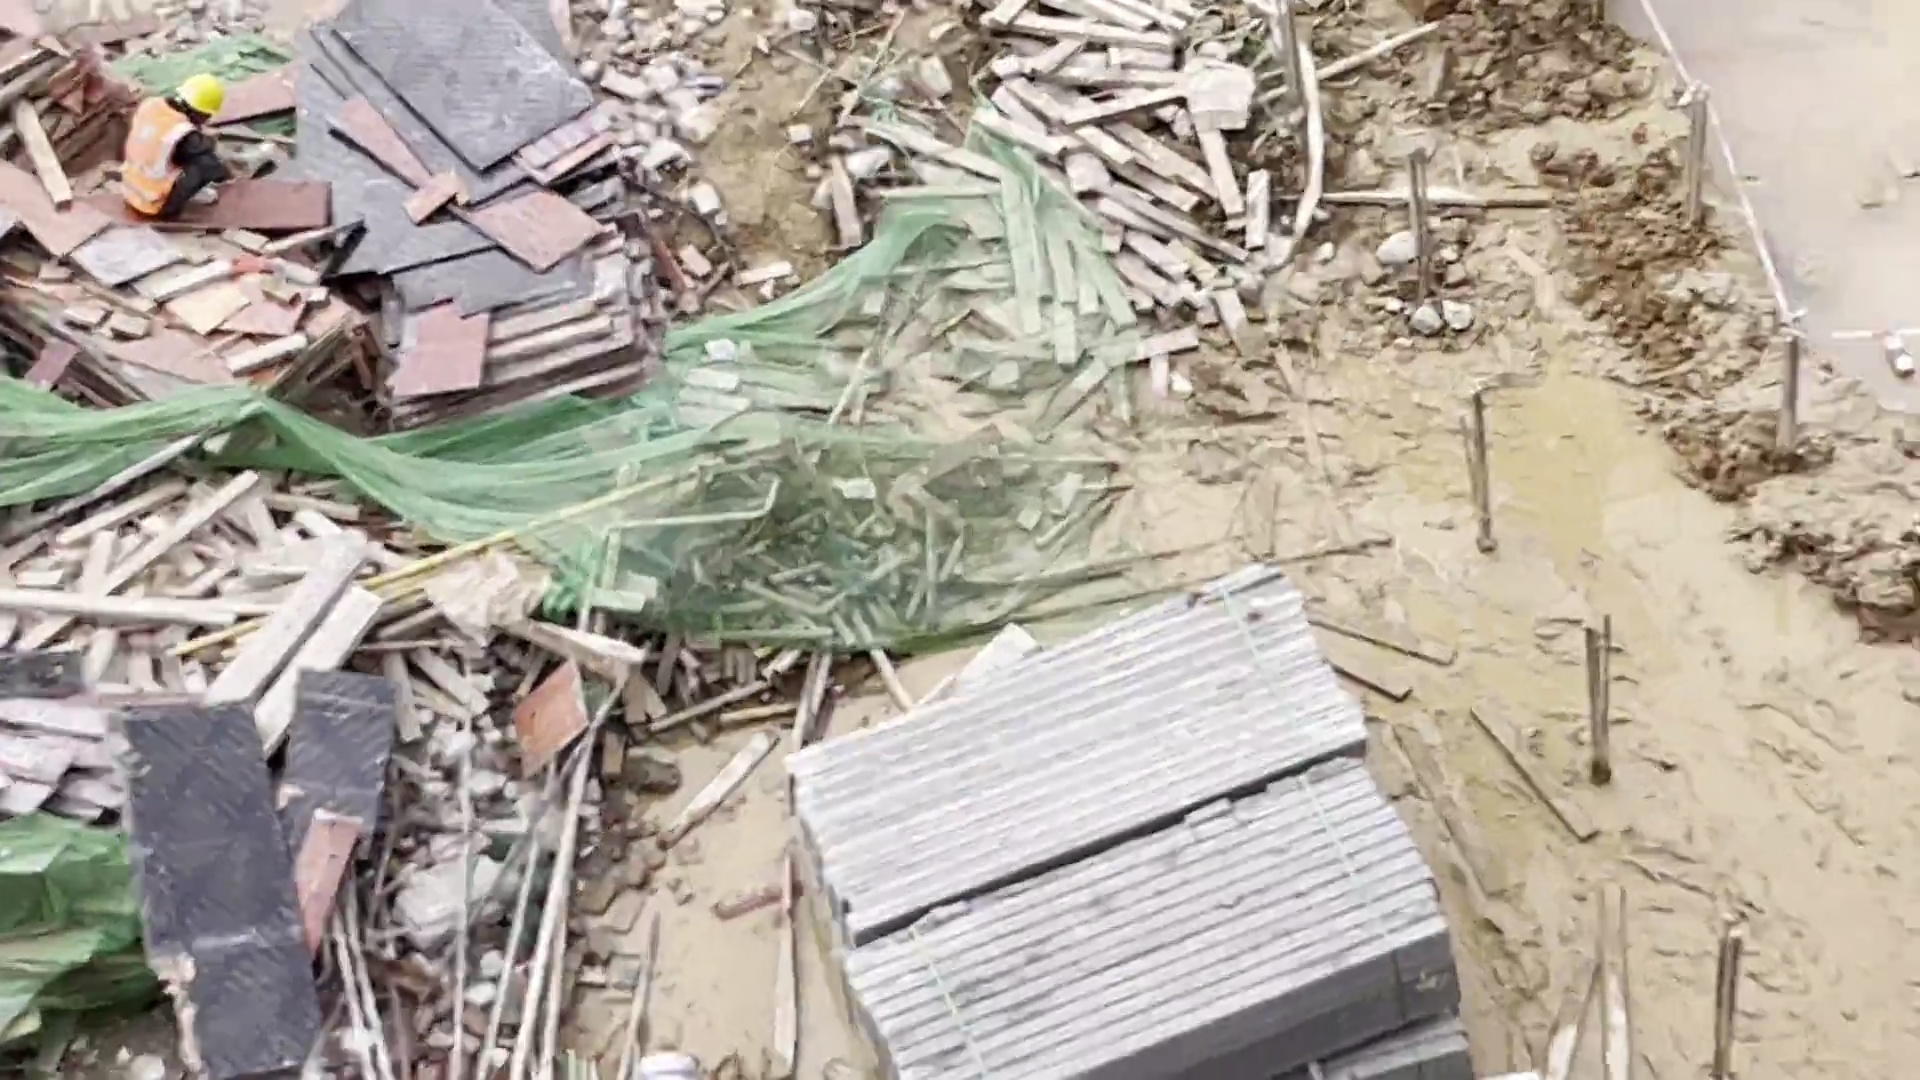helmet: (174, 73, 226, 119)
person: (122, 74, 233, 226)
vest: (126, 94, 191, 213)
